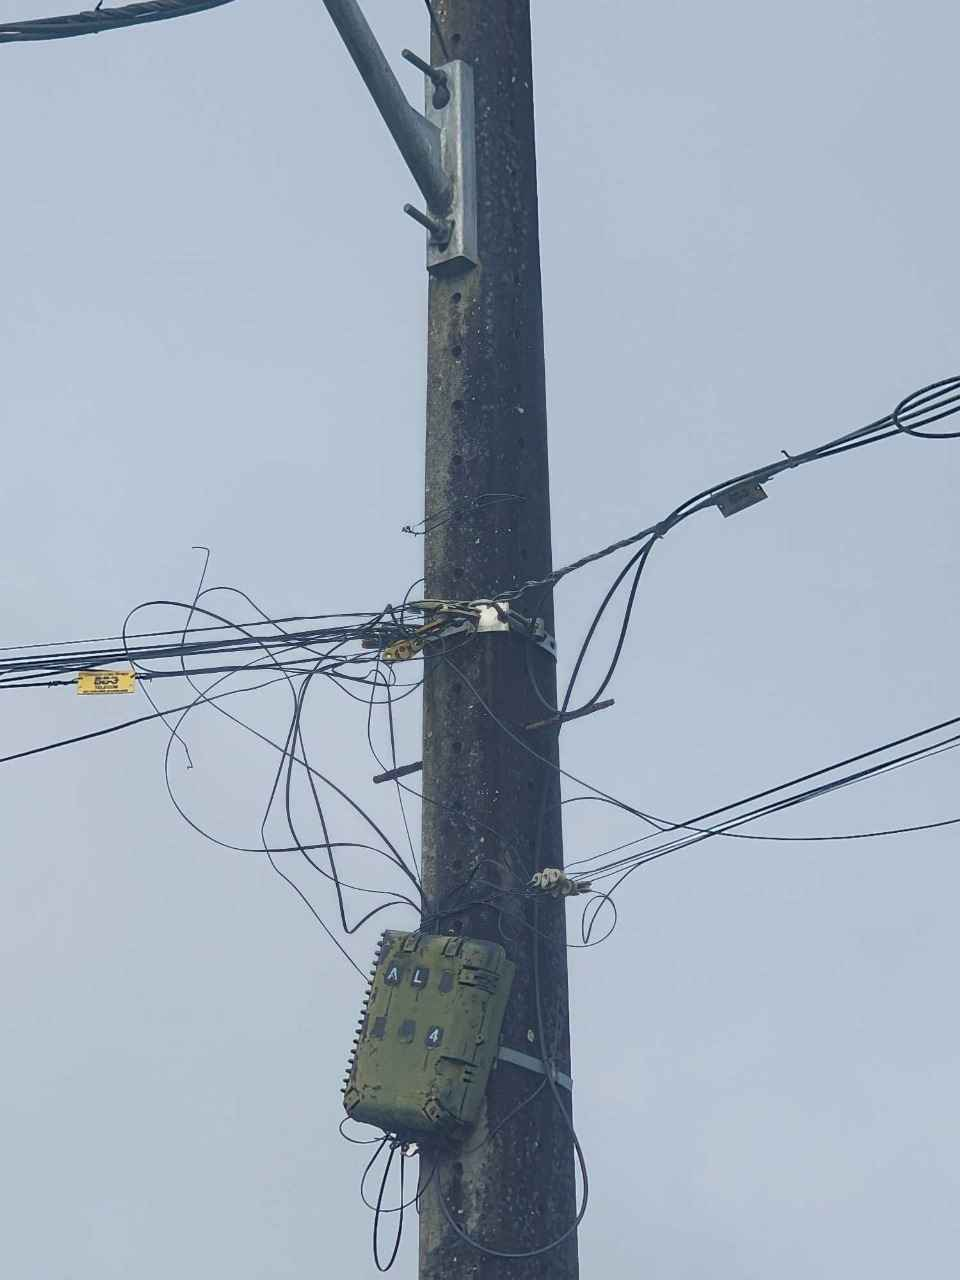drop: (345, 916, 529, 1153), (358, 592, 423, 672)
